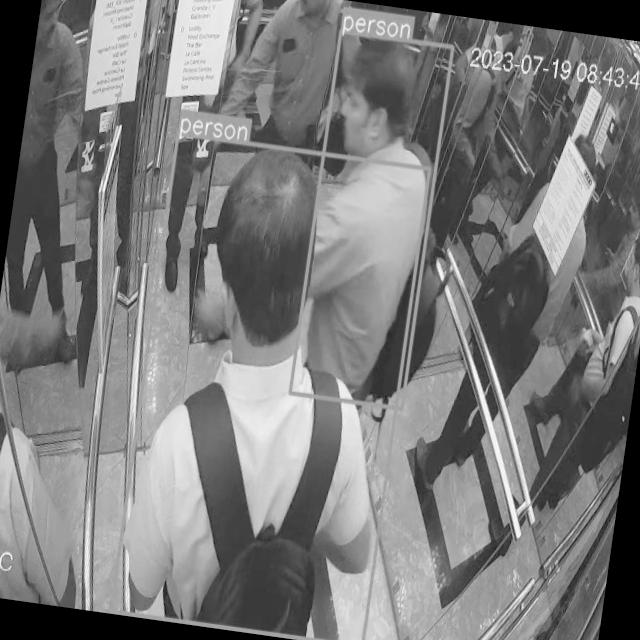person: (108, 121, 435, 640), (290, 25, 457, 407), (519, 220, 640, 563), (0, 0, 119, 346)
